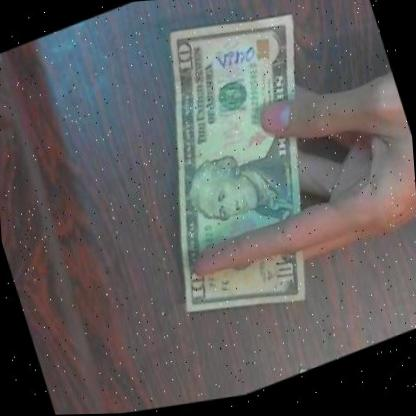ten-front: (99, 0, 380, 358)
